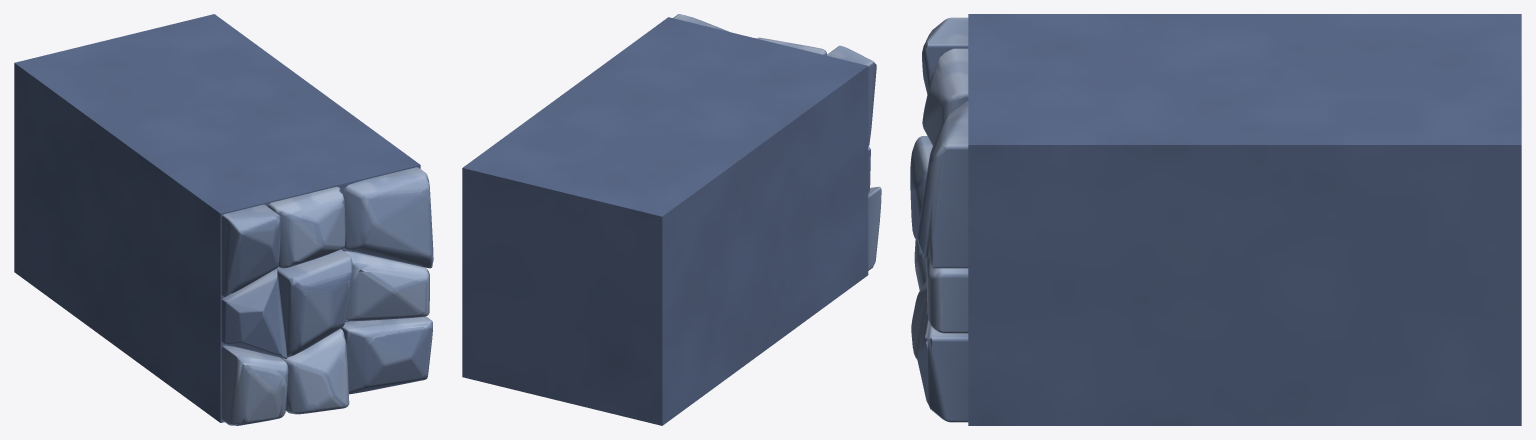
The model's file is FP_T04_IceRockCore_V2.fbx.
The picture shows the model from 3 angles, left to right: view 1: azimuth 30°, elevation 25°; view 2: azimuth 150°, elevation 25°; view 3: azimuth 270°, elevation 25°; orthographic projection. The views are drawn at different scales.
Parts seen in each view (by area): view 1: Rock; view 2: Rock; view 3: Rock.
Boxes of the visible parts, <box> form: Rock: <box>14,14,433,425</box>; Rock: <box>462,14,881,425</box>; Rock: <box>910,14,1521,425</box>.
Size of the model in its own units: 2 by 2 by 3.94.
